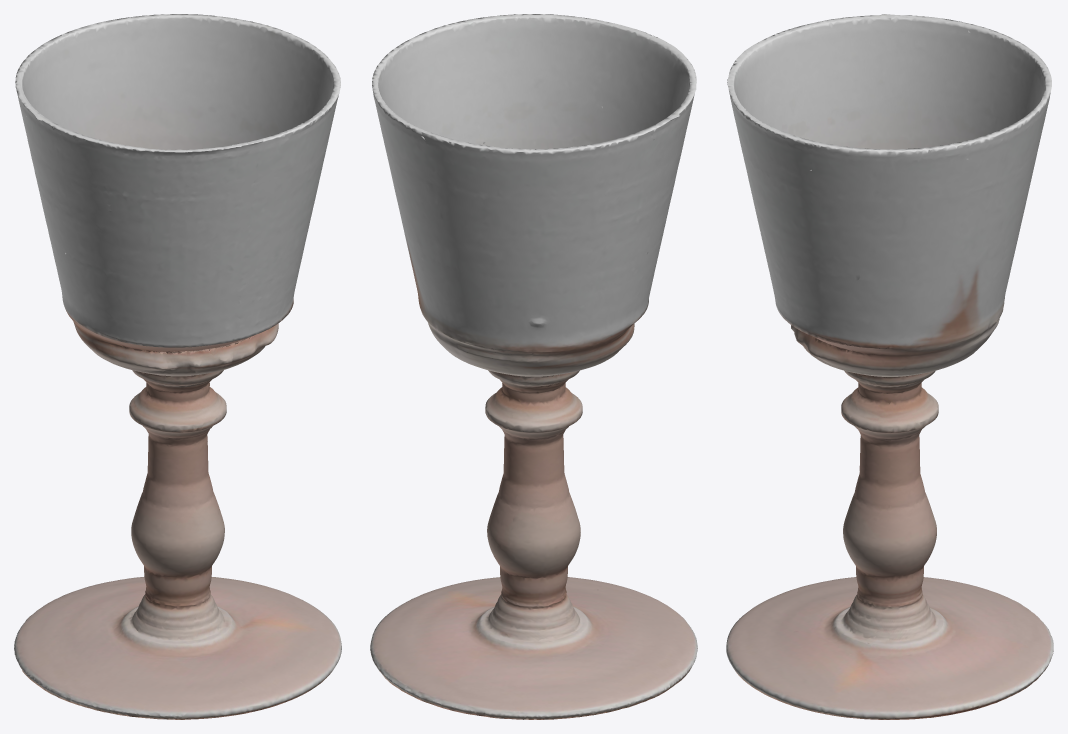
The model's file is copa.fbx.
3 renders of one model, left to right at view 1: azimuth 30°, elevation 25°; view 2: azimuth 150°, elevation 25°; view 3: azimuth 270°, elevation 25°, orthographic.
Visible parts, largest first — view 1: tripo_node_23981cbd; view 2: tripo_node_23981cbd; view 3: tripo_node_23981cbd.
Boxes of the visible parts, bbox=[...] form: tripo_node_23981cbd: bbox=[14, 14, 341, 719]; tripo_node_23981cbd: bbox=[370, 14, 697, 719]; tripo_node_23981cbd: bbox=[726, 14, 1053, 719].
Size of the model in its own units: 0.5244 by 1 by 0.5224.
1 material, 1 textured.
